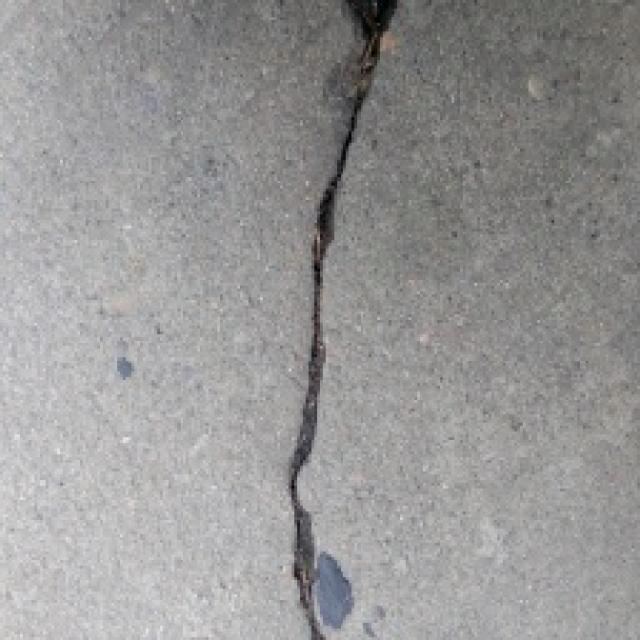crack: (256, 0, 444, 640)
